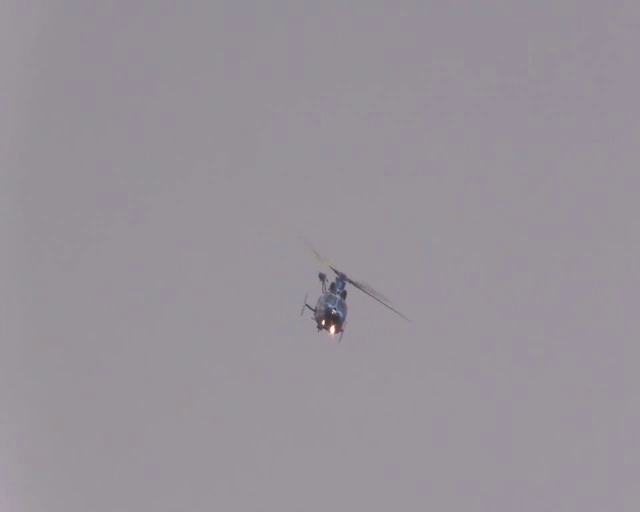HELICOPTER: (299, 237, 409, 342)
